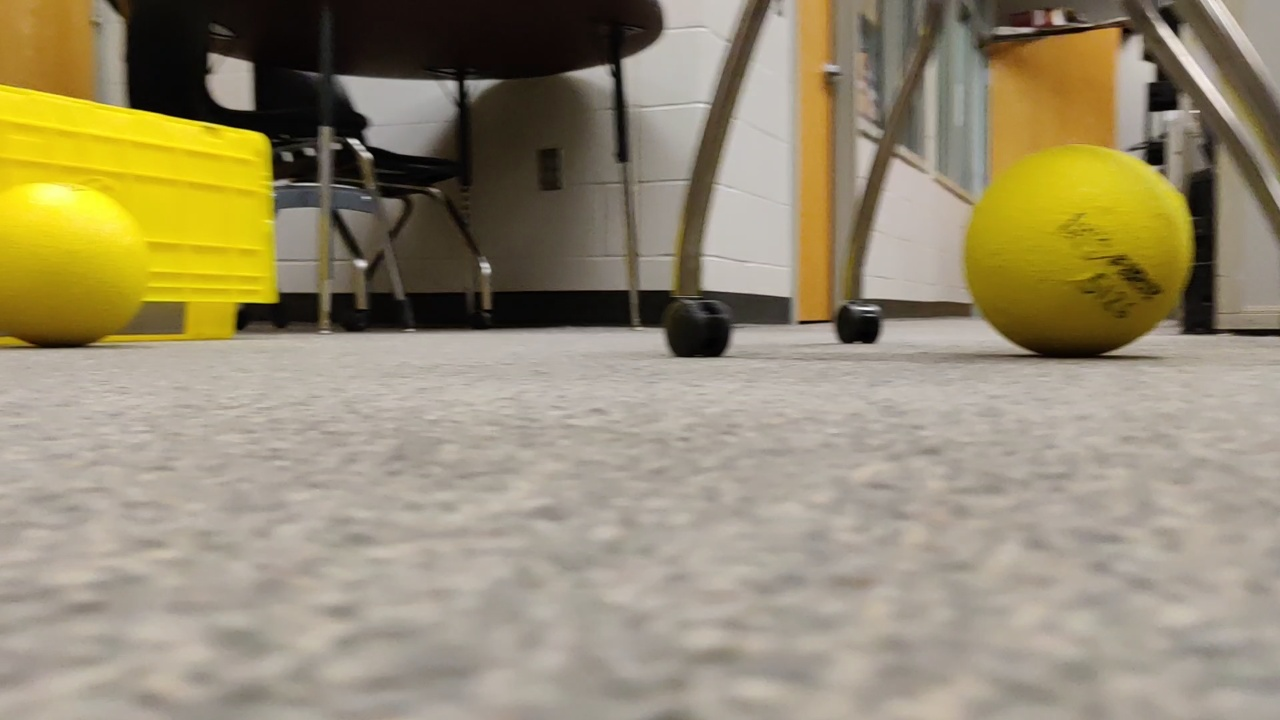Ball: (968, 145, 1189, 357), (1, 186, 152, 340)
